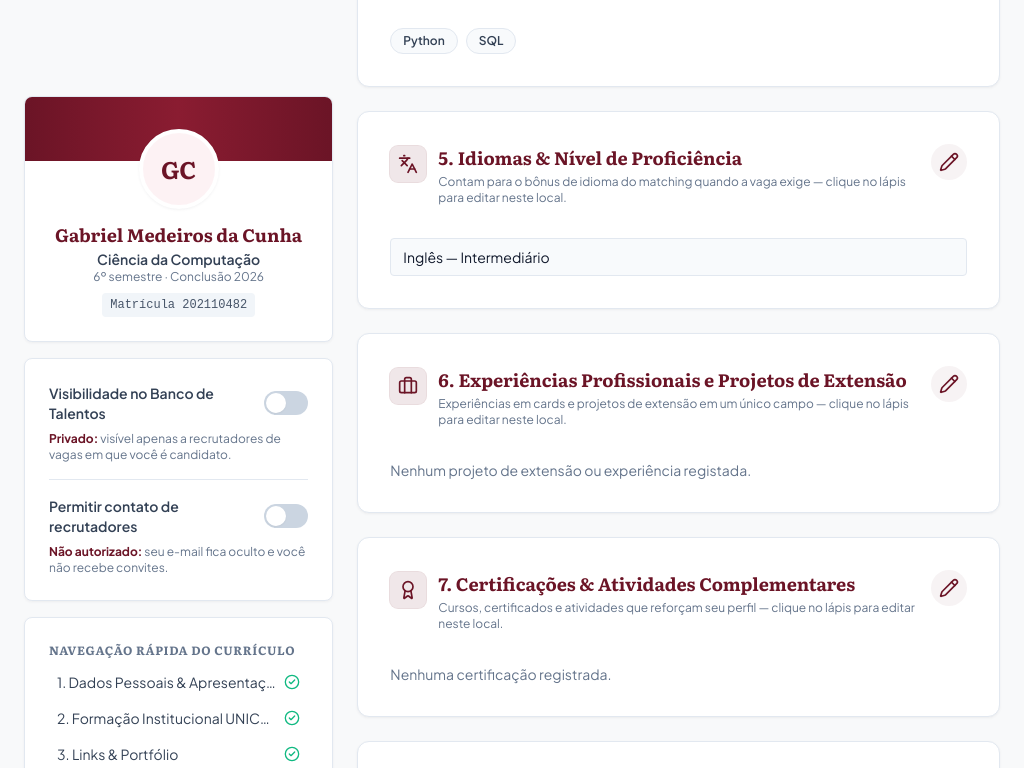
Test: ResumeBuilderPage — main com os 7 blocos (Etapa 2.2) › bloco 6 mantém experiências e ganha campo livre de projetos de extensão
(page scrolled)
Click the button named "Editar Experiências": coordinates (949, 384) [931,366,967,402]
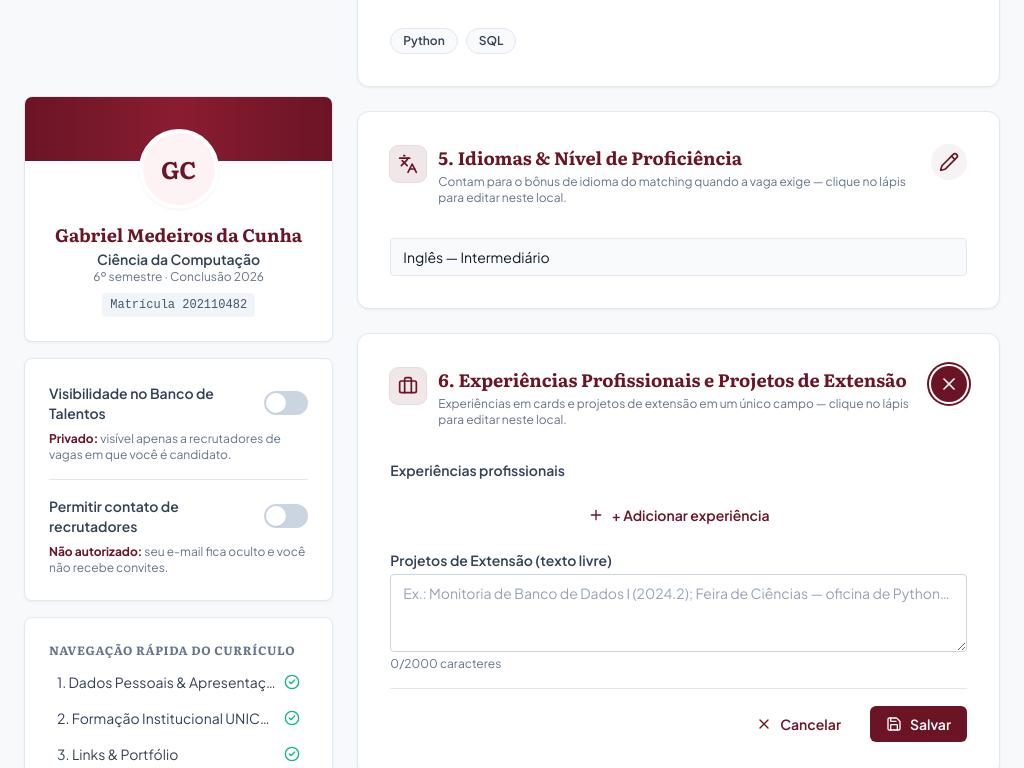
Expected: the element "Experiências profissionais + Adicionar experiência" is shown, [390,460,967,534]
Expected: the text box labelled "Projetos de Extensão (texto livre)" is shown, [390,574,967,652]
